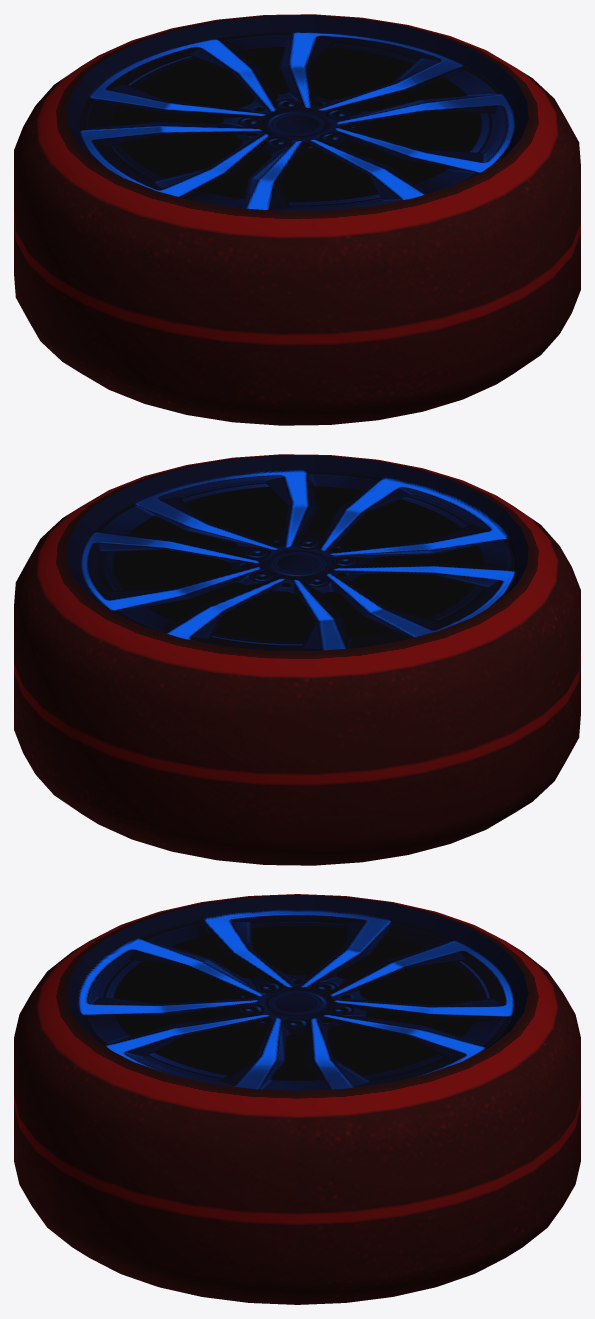
Rendered from wheel_right.glb.
The picture shows the model from 3 angles, top to bottom: view 1: azimuth 30°, elevation 25°; view 2: azimuth 150°, elevation 25°; view 3: azimuth 270°, elevation 25°; orthographic projection.
Visible parts, largest first — view 1: Car 01_Wheel_FL; view 2: Car 01_Wheel_FL; view 3: Car 01_Wheel_FL.
Part boxes in pixels (box(x1,y1,x2,y2)): Car 01_Wheel_FL: box(14, 14, 580, 425); Car 01_Wheel_FL: box(14, 454, 580, 865); Car 01_Wheel_FL: box(14, 894, 580, 1304).
Bounding box in the file's own units: 1.04 × 0.4287 × 1.04.
1 material, 1 textured.
